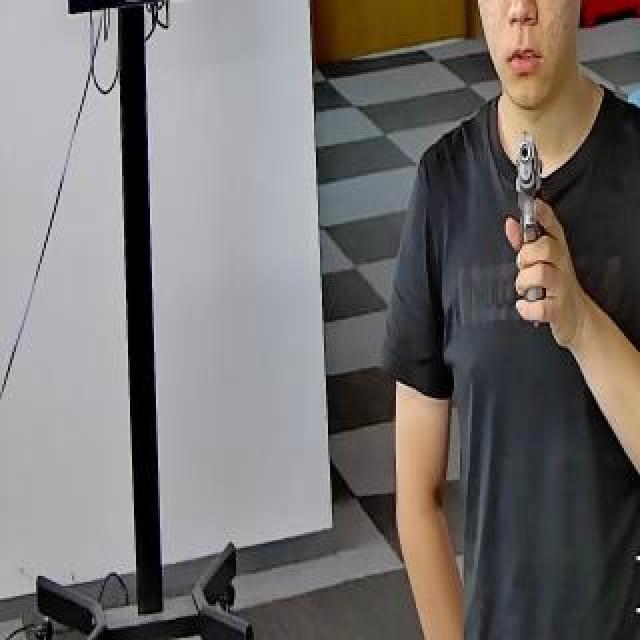Guns: (497, 106, 558, 314)
